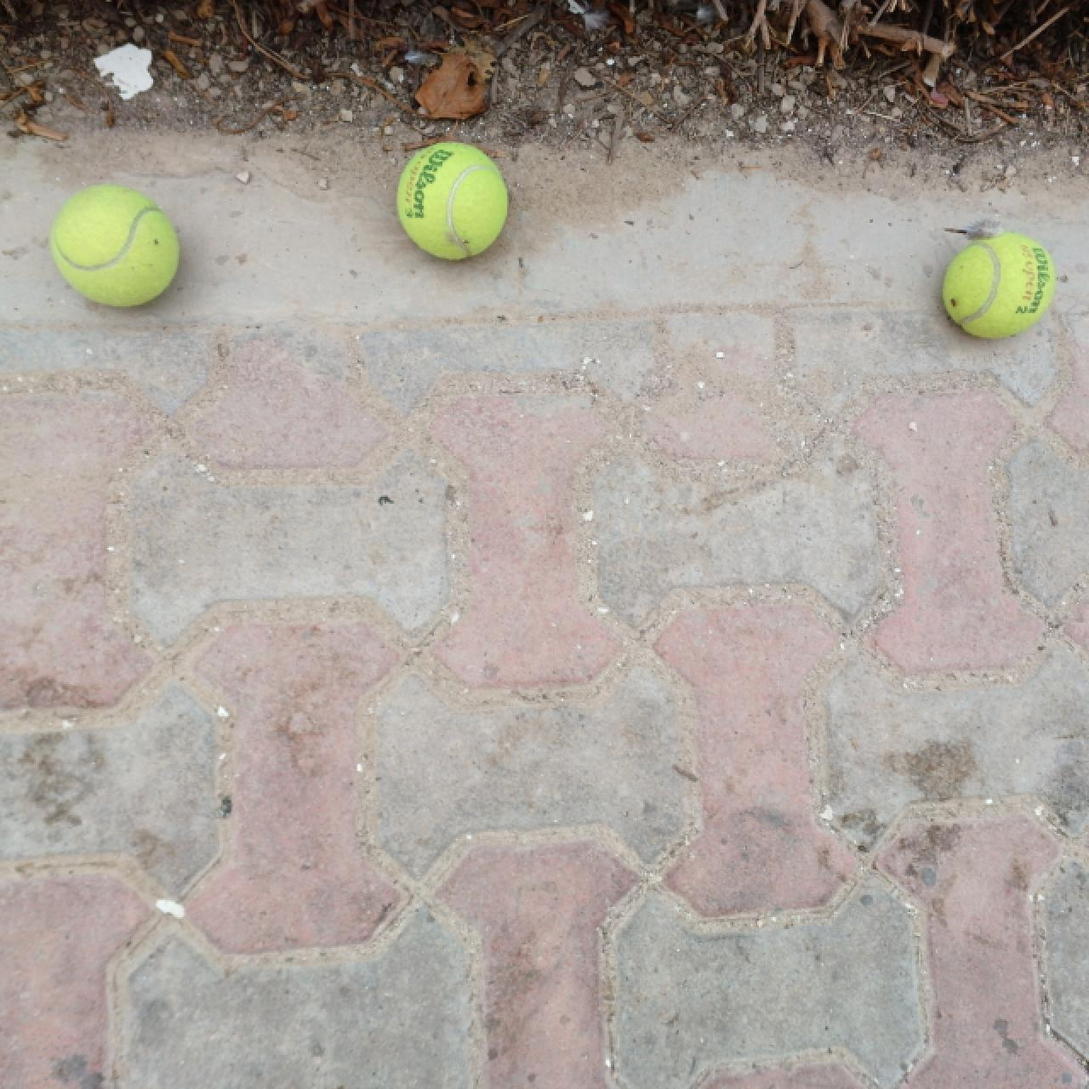tennis-ball: (46, 180, 181, 309), (396, 139, 510, 263), (940, 231, 1056, 340)
